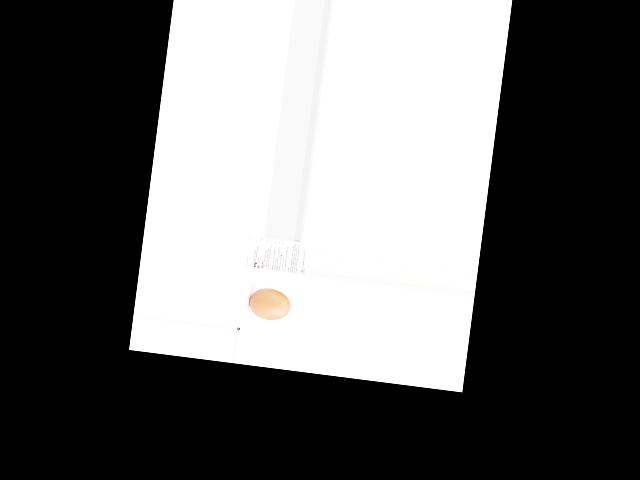egg: (247, 286, 291, 321)
